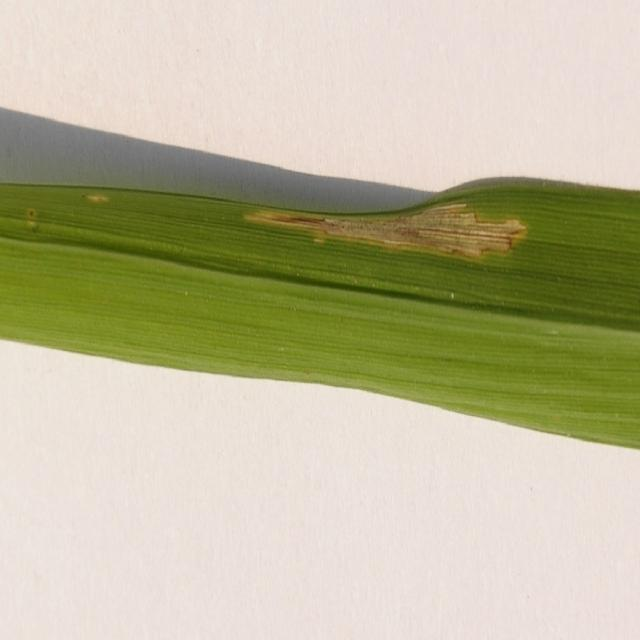Unhealthy: (244, 202, 528, 259), (88, 195, 110, 201), (29, 208, 34, 218)
